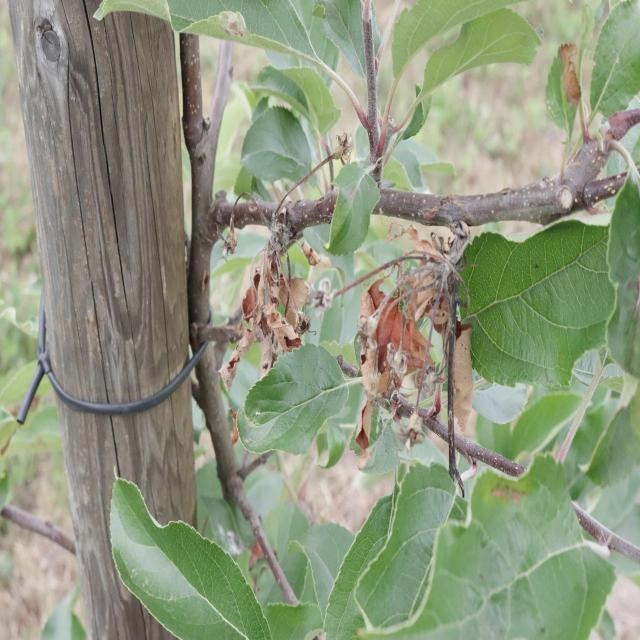-FireBlight-: (363, 228, 469, 457), (238, 229, 340, 368)
